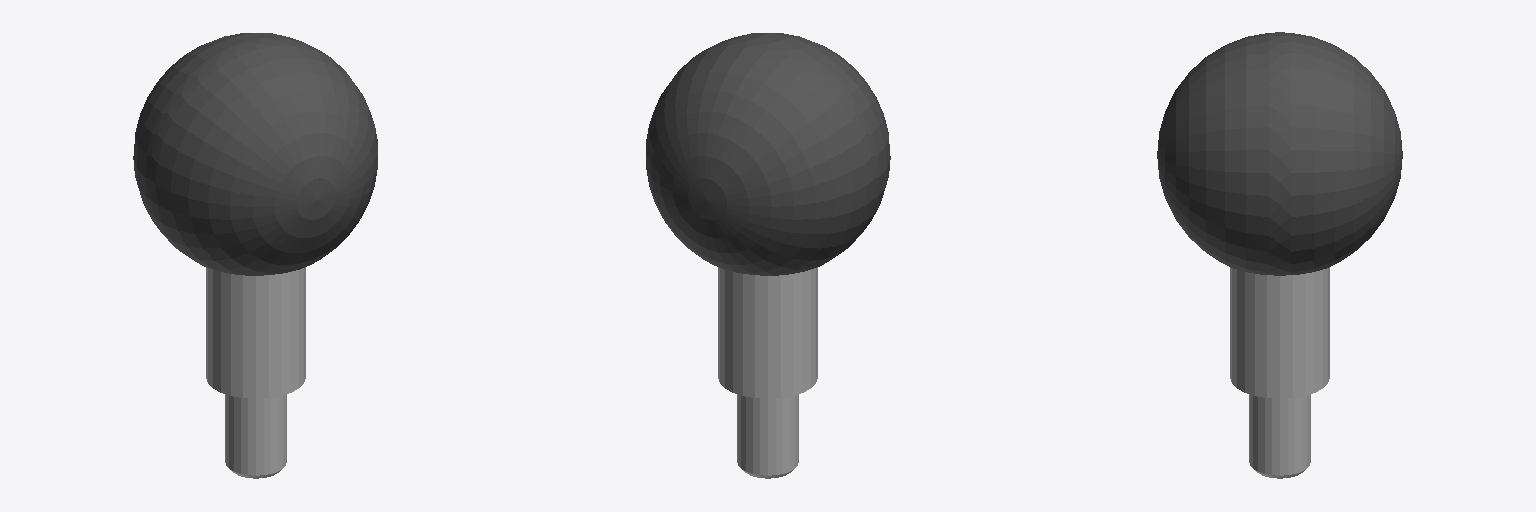
File: ganter_gn_319_2-32-m8-a.obj
3 renders of one model, left to right at view 1: azimuth 30°, elevation 25°; view 2: azimuth 150°, elevation 25°; view 3: azimuth 270°, elevation 25°, orthographic.
Parts seen in each view (by area): view 1: ganter_gn_319_2-32-m8-a_1; view 2: ganter_gn_319_2-32-m8-a_1; view 3: ganter_gn_319_2-32-m8-a_1.
Part boxes in pixels (x1,y1,x2,y2): ganter_gn_319_2-32-m8-a_1: (133,33,377,478); ganter_gn_319_2-32-m8-a_1: (646,33,890,478); ganter_gn_319_2-32-m8-a_1: (1157,32,1402,478).
Bounding box in the file's own units: 31.99 × 61 × 32.